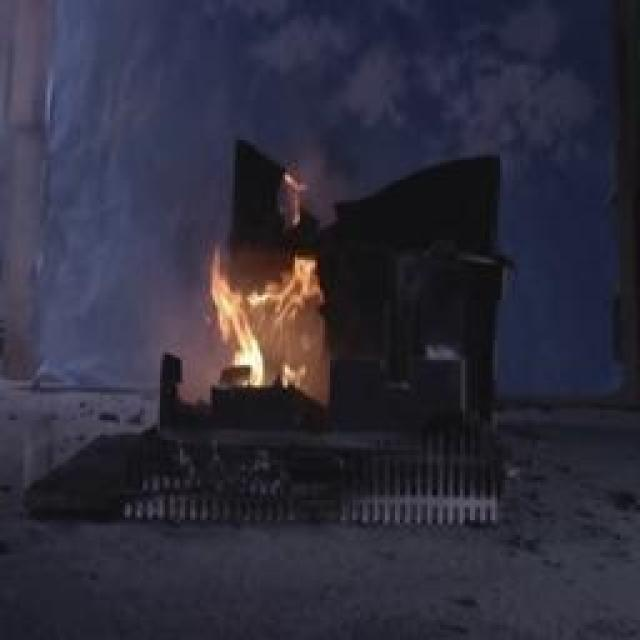fire: (208, 221, 350, 404)
